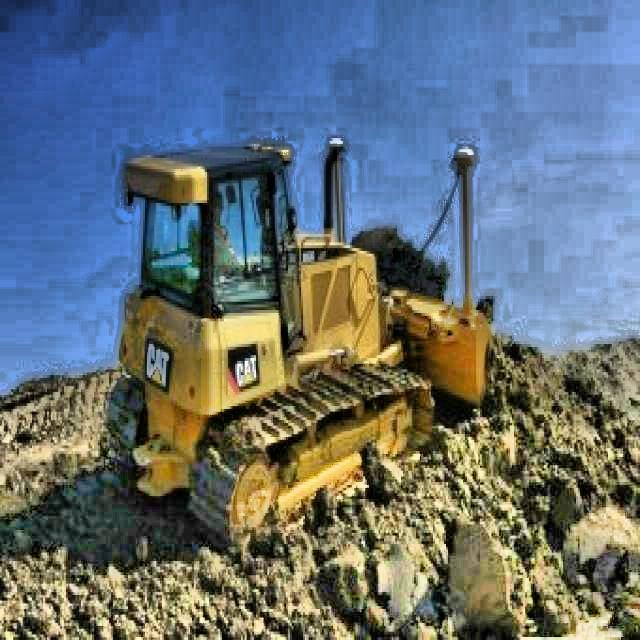bull_dozer/loader/grader: (103, 127, 499, 560)
person: (206, 188, 250, 280)
